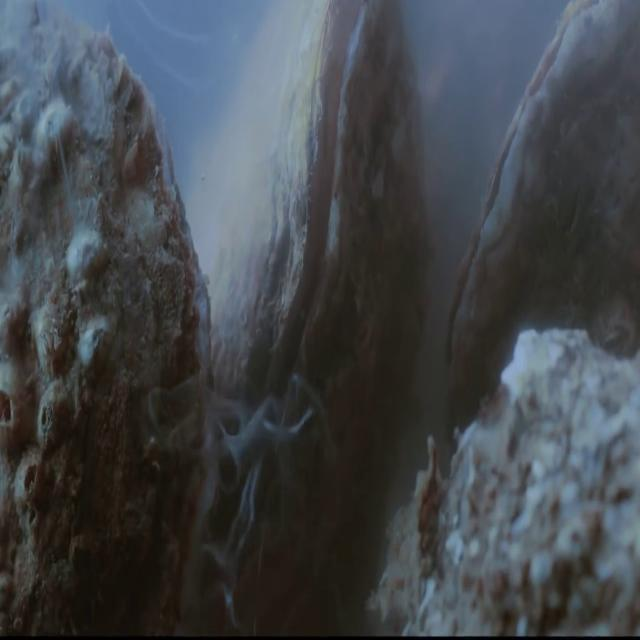Oyster-Closed: (182, 4, 436, 628), (0, 5, 215, 632), (438, 2, 638, 403)
